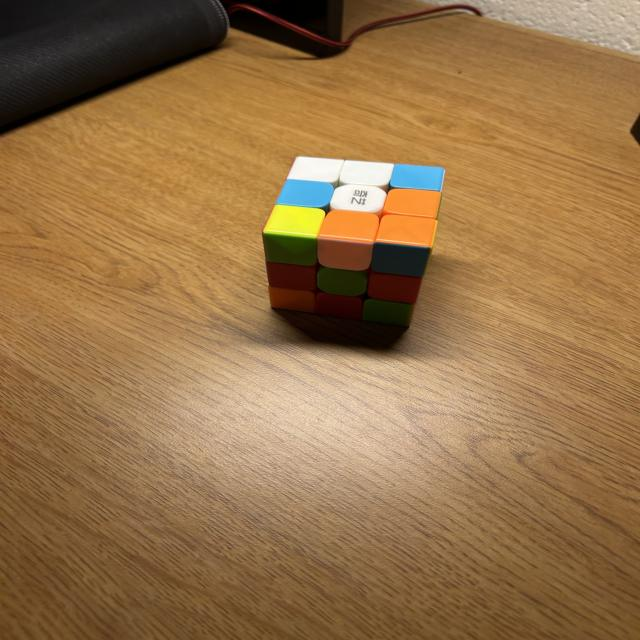Rubiks Cube: (263, 156, 443, 327)
